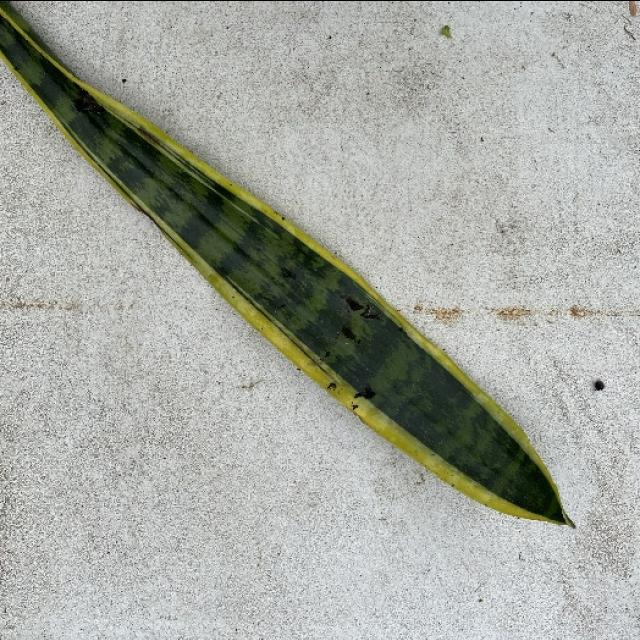organik: (0, 0, 576, 519)
